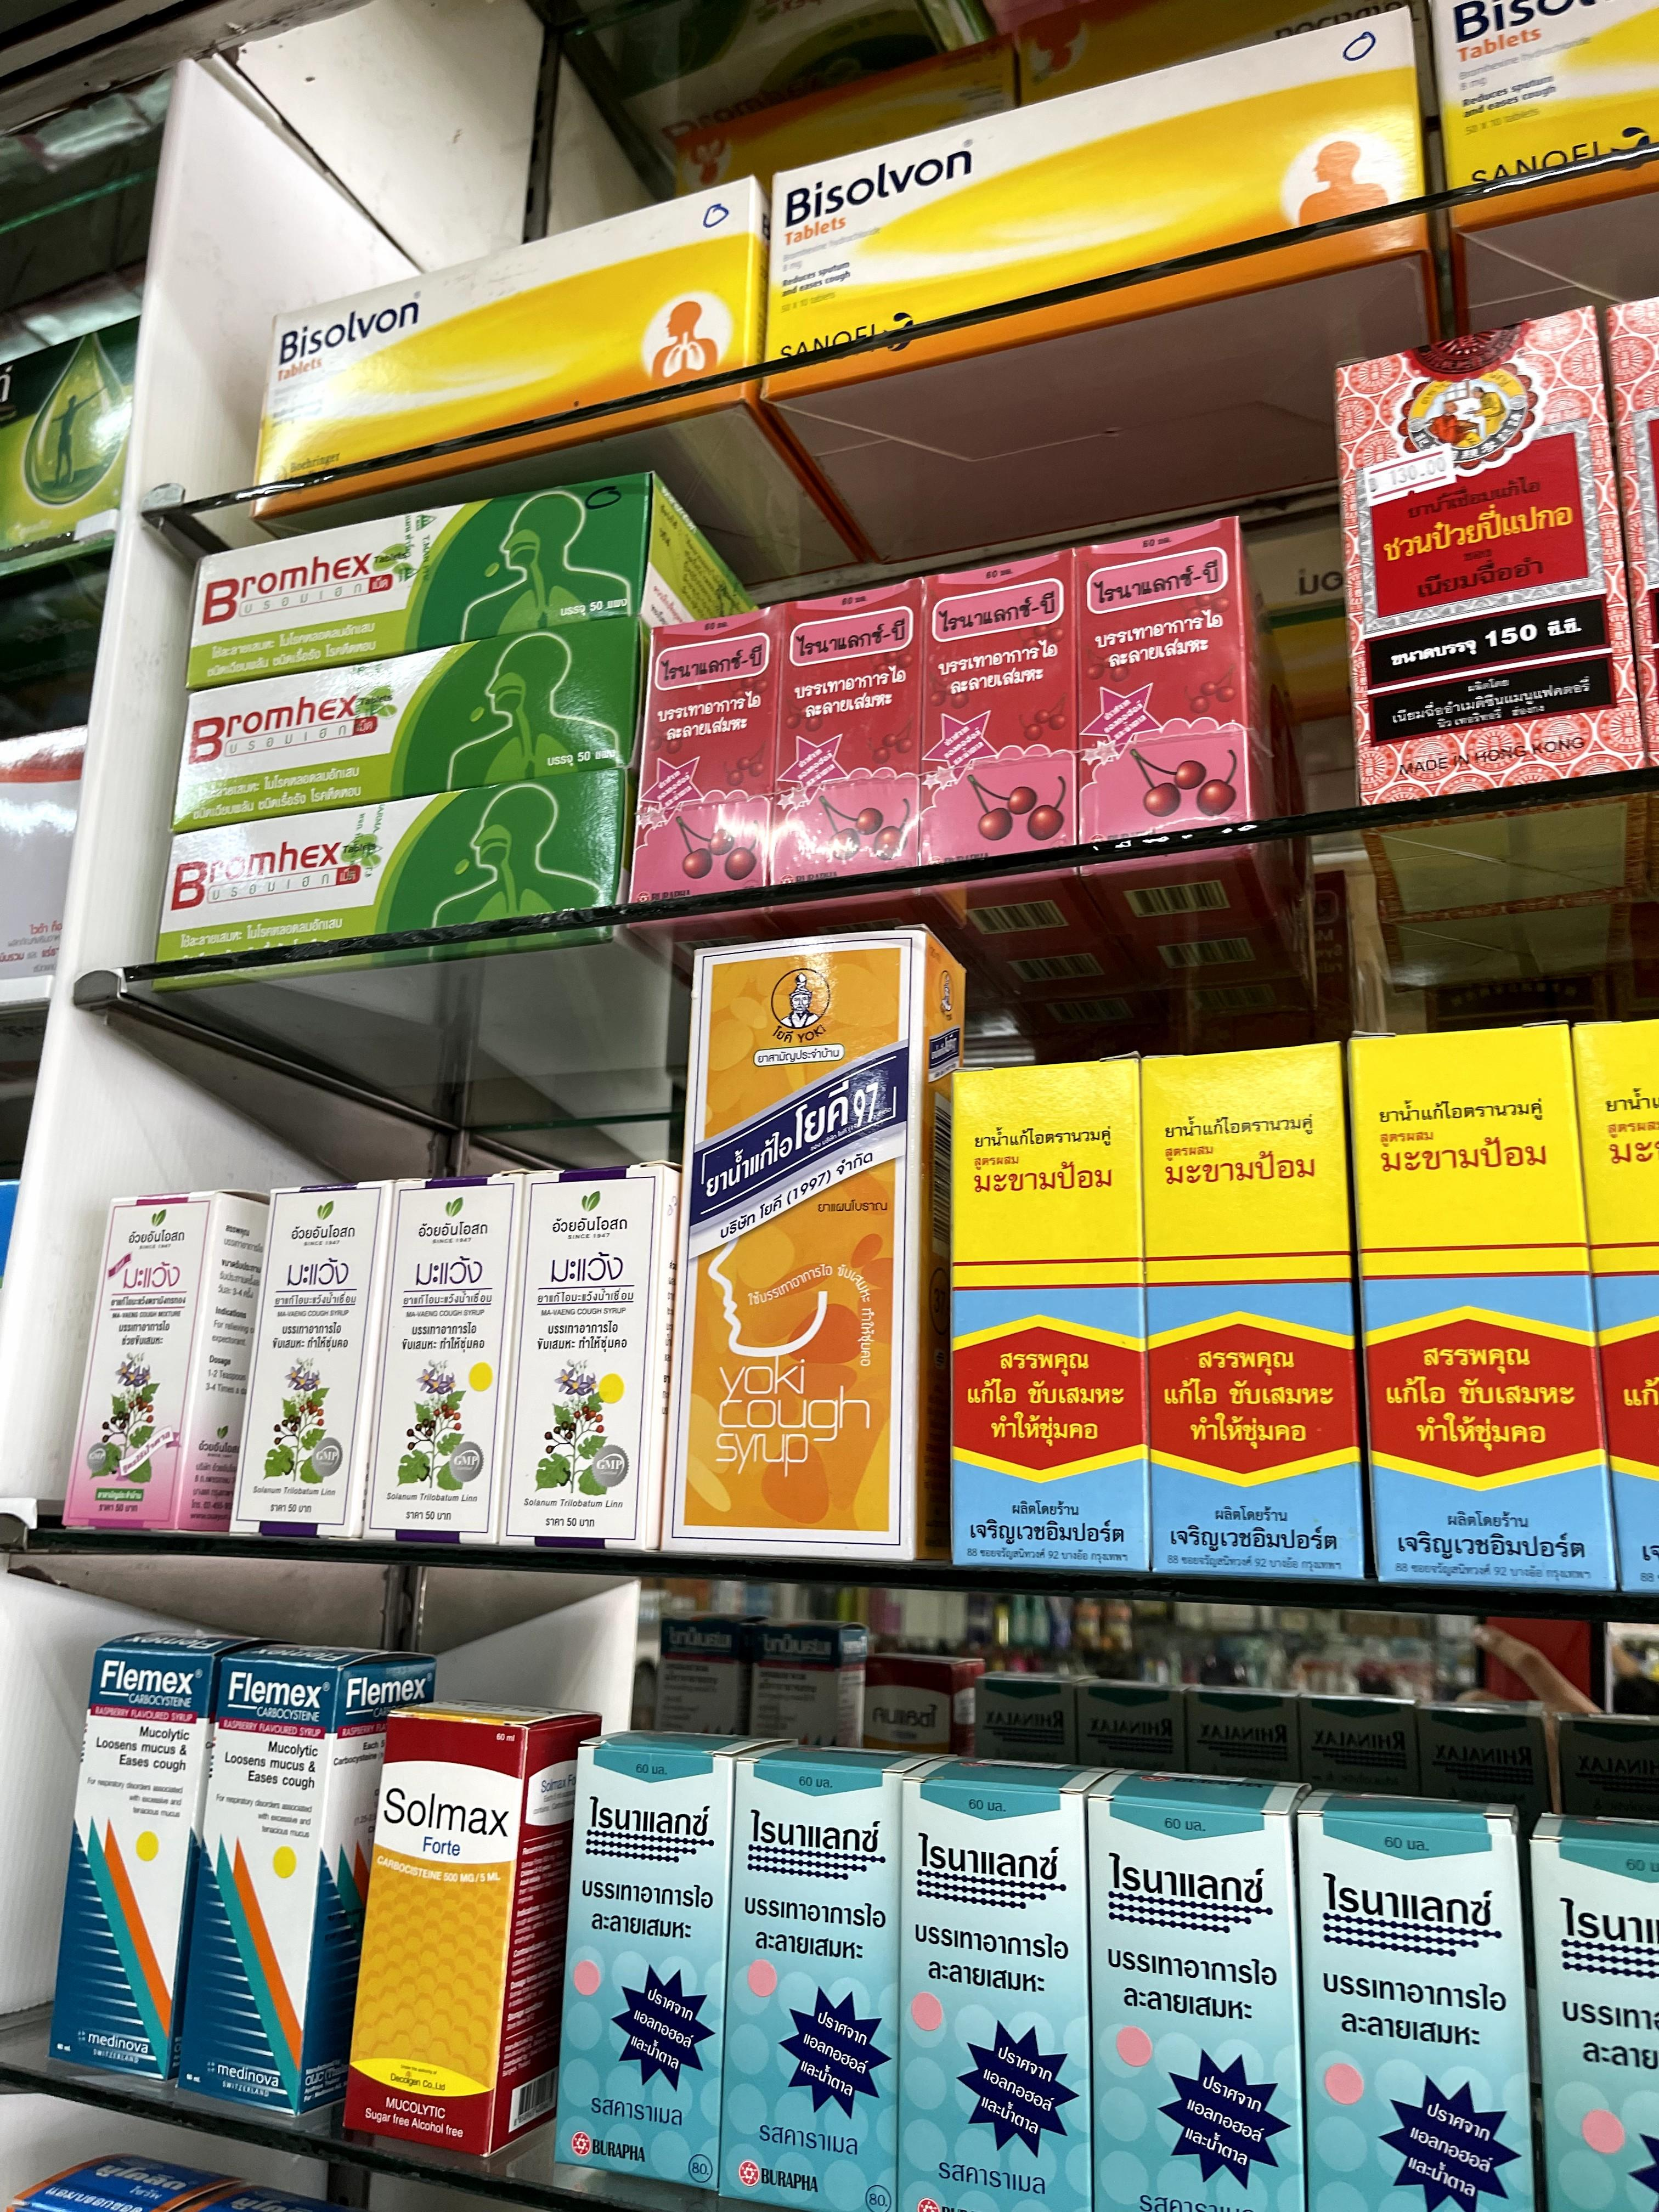Ma-Kham-Pom: (1342, 1022, 1615, 1590), (1147, 1050, 1371, 1580), (951, 1068, 1152, 1564)
Ma-Vaeng_Light: (71, 1188, 249, 1533)
Ma-Vaeng_Syrup: (505, 1169, 678, 1545), (239, 1184, 396, 1533), (373, 1174, 519, 1533)
Pei-Pa-Koa_Big: (1330, 307, 1657, 792)
Rhinalax: (1305, 1785, 1528, 2212), (1100, 1766, 1305, 2212), (904, 1742, 1094, 2212), (732, 1737, 908, 2212), (568, 1731, 732, 2196), (1525, 1813, 1659, 2212)
Rhinalax-B: (1079, 516, 1253, 862), (918, 549, 1080, 881), (634, 610, 782, 911), (788, 583, 927, 892)
Solmax: (354, 1703, 582, 2151)
